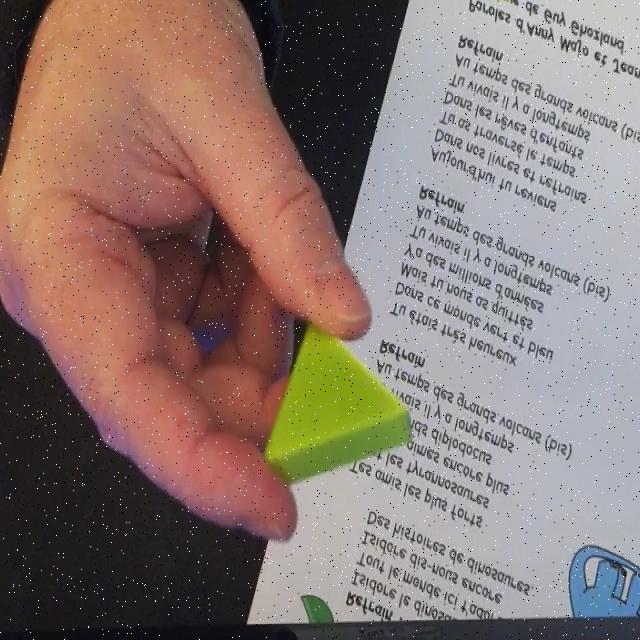triangle: (260, 316, 411, 477)
